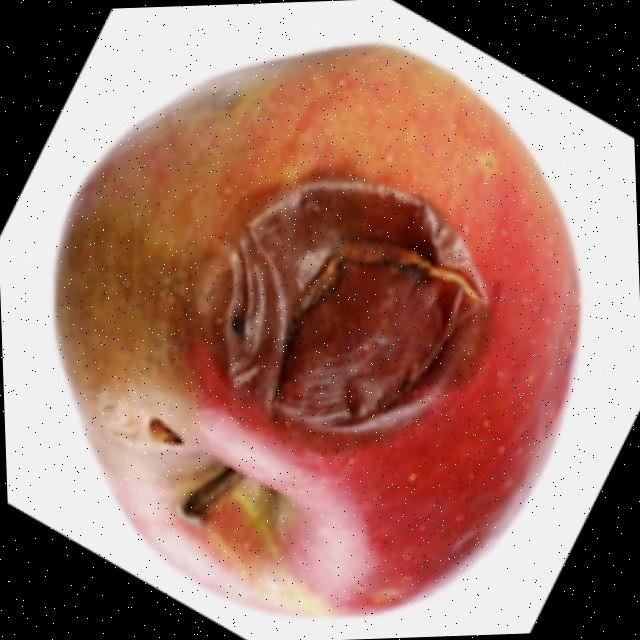Rotten: (38, 22, 595, 634)
